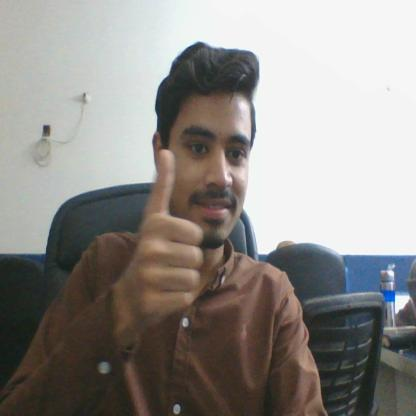thumbs-up: (134, 150, 211, 305)
